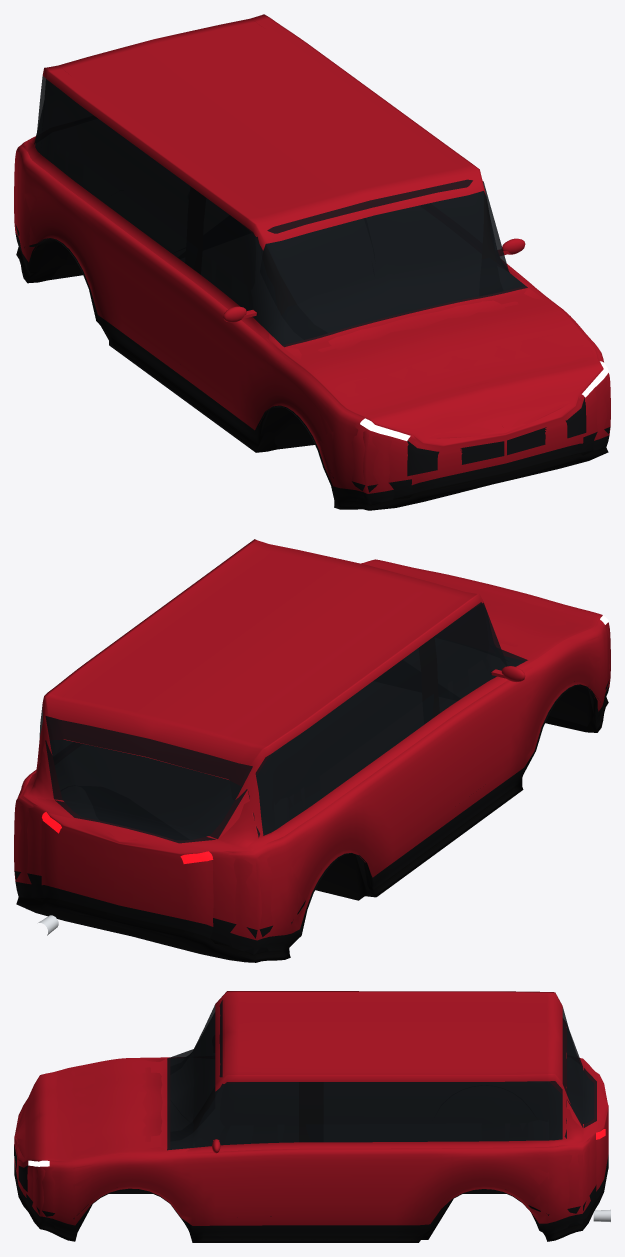
File: suv.glb
3 views of the same model, one above another, from view 1: azimuth 30°, elevation 25°; view 2: azimuth 150°, elevation 25°; view 3: azimuth 270°, elevation 25° (orthographic). The views are drawn at different scales.
Parts seen in each view (by area): view 1: body (×2), grille, mirrors; view 2: body (×2); view 3: body (×2).
Part boxes in pixels (<box>): body (×2): <box>14,14,610,510</box>; grille: <box>407,397,586,476</box>; mirrors: <box>223,238,525,322</box>; body (×2): <box>14,539,610,962</box>; body (×2): <box>14,991,608,1242</box>.
Size of the model in its own units: 2.17 by 1.45 by 4.82.
